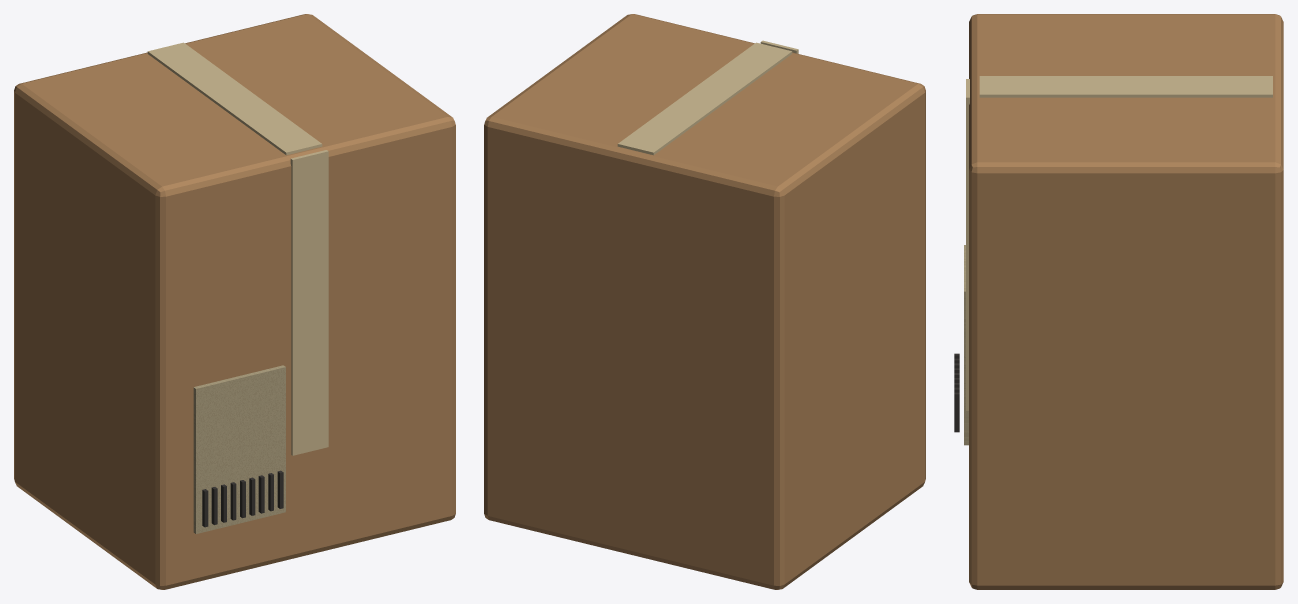
File: MS_SP_22_DeliveryBoxTall.glb
3 renders of one model, left to right at view 1: azimuth 30°, elevation 25°; view 2: azimuth 150°, elevation 25°; view 3: azimuth 270°, elevation 25°, orthographic. The views are drawn at different scales.
Parts seen in each view (by area): view 1: Carton.001, FrontTape.001, BlankShippingLabel.001, Barcode.009; view 2: Carton.001, FrontTape.001; view 3: Carton.001, FrontTape.001, BlankShippingLabel.001, Barcode.009.
Boxes of the visible parts, x1,y1,x2,y2 form: Carton.001: [14, 14, 455, 589]; FrontTape.001: [147, 42, 328, 455]; BlankShippingLabel.001: [193, 365, 285, 533]; Barcode.009: [202, 470, 283, 527]; Carton.001: [484, 14, 925, 589]; FrontTape.001: [617, 40, 798, 155]; Carton.001: [969, 14, 1283, 589]; FrontTape.001: [966, 76, 1272, 410]; BlankShippingLabel.001: [964, 245, 968, 445]; Barcode.009: [954, 353, 959, 432].
Bounding box in the file's own units: 0.35 × 0.453 × 0.314.
Materials: 4 (1 with a texture image).
